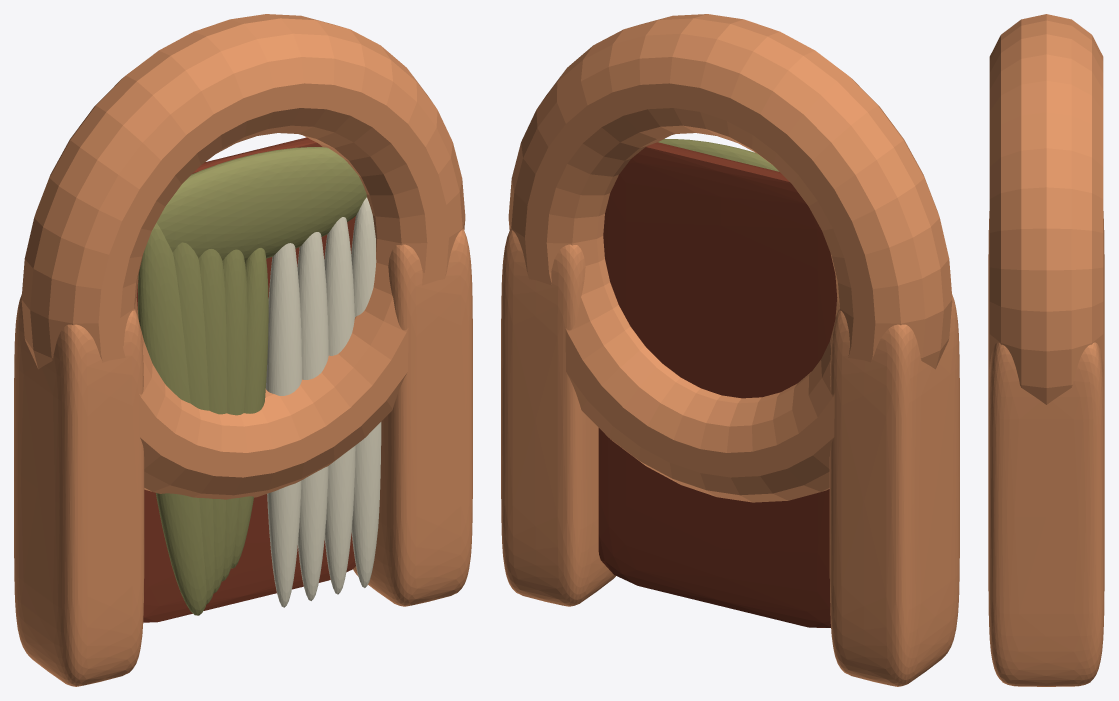
Rendered from mud_doorway.glb.
The picture shows the model from 3 angles, left to right: view 1: azimuth 30°, elevation 25°; view 2: azimuth 150°, elevation 25°; view 3: azimuth 270°, elevation 25°; orthographic projection. The views are drawn at different scales.
Visible parts, largest first — view 1: Arch, Leg_L, Leg_R, Curtain_Top, Curtain_L_0, Interior, Curtain_R_0, Curtain_R_1, Curtain_R_2, Curtain_R_3, Curtain_L_1, Curtain_L_2 (+2 smaller); view 2: Arch, Interior, Leg_L, Leg_R, Curtain_Top; view 3: Arch, Leg_R, Leg_L.
Boxes of the visible parts, x1=… form: Arch: x1=21, y1=14, x2=465, y2=499; Leg_L: x1=14, y1=294, x2=144, y2=686; Leg_R: x1=353, y1=228, x2=472, y2=606; Curtain_Top: x1=156, y1=147, x2=366, y2=261; Curtain_L_0: x1=138, y1=223, x2=206, y2=615; Interior: x1=136, y1=137, x2=355, y2=622; Curtain_R_0: x1=265, y1=243, x2=301, y2=607; Curtain_R_1: x1=297, y1=232, x2=328, y2=600; Curtain_R_2: x1=324, y1=217, x2=355, y2=594; Curtain_R_3: x1=351, y1=197, x2=381, y2=587; Curtain_L_1: x1=173, y1=242, x2=214, y2=604; Curtain_L_2: x1=198, y1=249, x2=226, y2=593; Arch: x1=508, y1=14, x2=952, y2=502; Interior: x1=598, y1=142, x2=837, y2=627; Leg_L: x1=829, y1=294, x2=959, y2=686; Leg_R: x1=501, y1=228, x2=615, y2=606; Curtain_Top: x1=658, y1=139, x2=779, y2=171; Arch: x1=989, y1=14, x2=1103, y2=404; Leg_R: x1=988, y1=342, x2=1104, y2=686; Leg_L: x1=988, y1=211, x2=1104, y2=404.
Size of the model in its own units: 1.33 by 1.8 by 0.3344.
